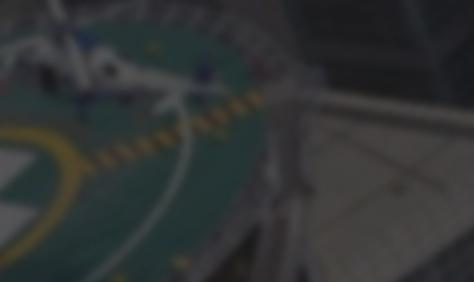Apron: (1, 116, 83, 280)
